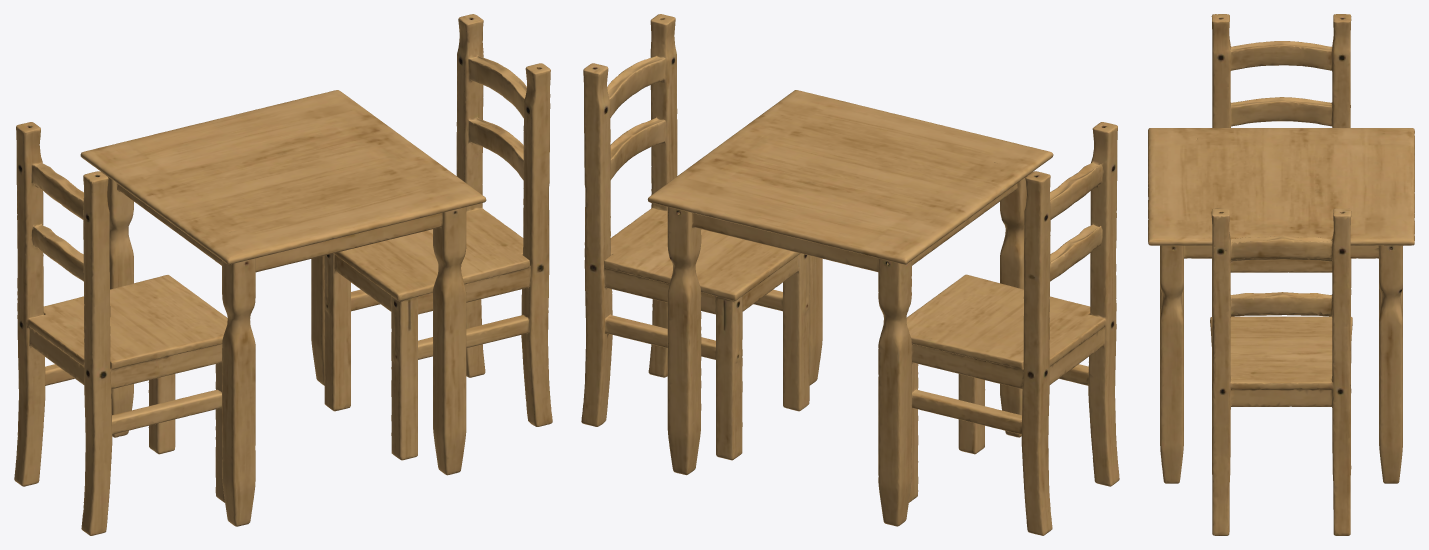
3 renders of one model, left to right at view 1: azimuth 30°, elevation 25°; view 2: azimuth 150°, elevation 25°; view 3: azimuth 270°, elevation 25°, orthographic. The views are drawn at different scales.
Visible parts, largest first — view 1: geometry_0; view 2: geometry_0; view 3: geometry_0.
Part boxes in pixels (x1,y1,x2,y2): geometry_0: (14,14,552,535); geometry_0: (581,14,1119,535); geometry_0: (1148,14,1414,535).
Size of the model in its own units: 0.8459 by 0.6202 by 0.468.
Materials: 1 (1 with a texture image).
